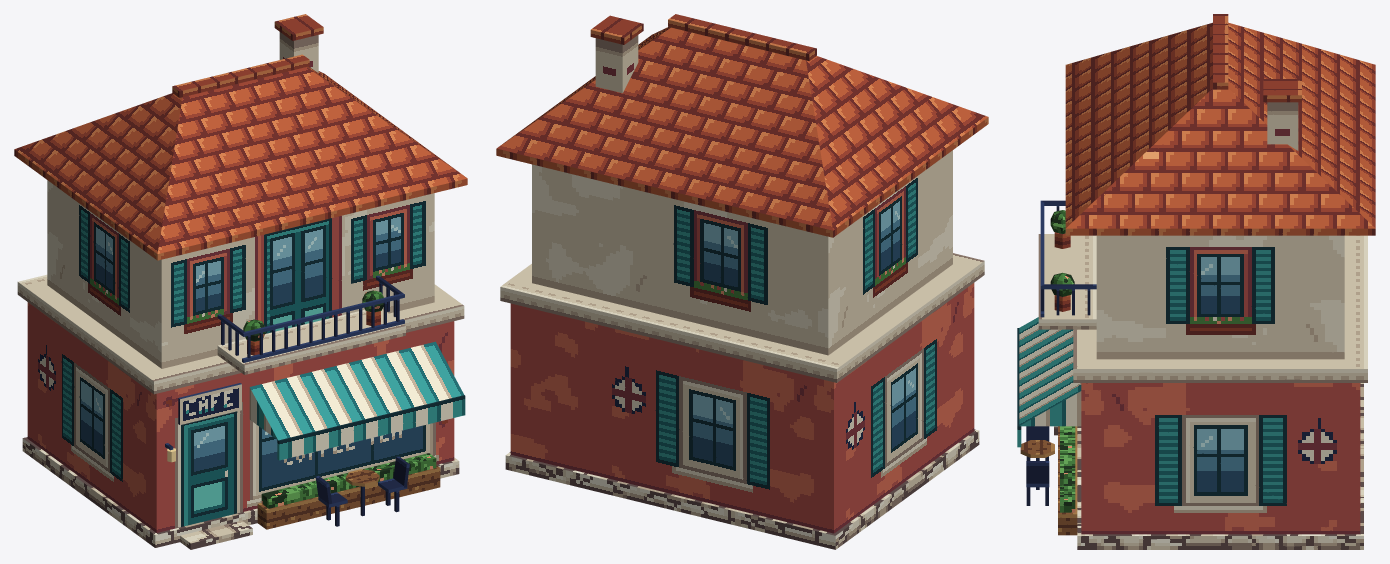
Rendered from cafe-shop.glb.
The picture shows the model from 3 angles, left to right: view 1: azimuth 30°, elevation 25°; view 2: azimuth 150°, elevation 25°; view 3: azimuth 270°, elevation 25°; orthographic projection. The views are drawn at different scales.
Parts seen in each view (by area): view 1: cafe-shop__roof, cafe-shop__ground, cafe-shop__upper, cafe-shop__awning, cafe-shop__cornice, cafe-shop__balcony, cafe-shop__valance, cafe-shop__plinth, cafe-shop__planter, cafe-shop__planter_plants, cafe-shop__ridge, cafe-shop__sign (+5 smaller); view 2: cafe-shop__ground, cafe-shop__roof, cafe-shop__upper, cafe-shop__cornice, cafe-shop__plinth, cafe-shop__ridge, cafe-shop__chimney, cafe-shop__chimney_cap; view 3: cafe-shop__roof, cafe-shop__ground, cafe-shop__upper, cafe-shop__cornice, cafe-shop__awning, cafe-shop__plinth, cafe-shop__balcony, cafe-shop__chimney, cafe-shop__planter_plants, cafe-shop__ridge, cafe-shop__chimney_cap, cafe-shop__planter (+2 smaller).
Part boxes in pixels (<box>): cafe-shop__roof: <box>14,66,467,260</box>; cafe-shop__ground: <box>27,302,454,532</box>; cafe-shop__upper: <box>47,180,434,368</box>; cafe-shop__awning: <box>249,341,463,440</box>; cafe-shop__cornice: <box>17,274,464,394</box>; cafe-shop__balcony: <box>217,309,405,374</box>; cafe-shop__valance: <box>277,395,465,460</box>; cafe-shop__plinth: <box>22,437,459,547</box>; cafe-shop__planter: <box>257,465,440,529</box>; cafe-shop__planter_plants: <box>261,453,436,508</box>; cafe-shop__ridge: <box>172,54,309,97</box>; cafe-shop__sign: <box>178,383,241,424</box>; cafe-shop__ground: <box>510,283,974,533</box>; cafe-shop__roof: <box>496,27,988,237</box>; cafe-shop__upper: <box>532,150,952,355</box>; cafe-shop__cornice: <box>500,253,984,382</box>; cafe-shop__plinth: <box>505,429,979,549</box>; cafe-shop__ridge: <box>668,14,816,60</box>; cafe-shop__chimney: <box>595,35,638,93</box>; cafe-shop__chimney_cap: <box>590,15,643,44</box>; cafe-shop__roof: <box>1065,22,1375,235</box>; cafe-shop__ground: <box>1081,383,1360,534</box>; cafe-shop__upper: <box>1096,235,1344,359</box>; cafe-shop__cornice: <box>1073,235,1367,382</box>; cafe-shop__awning: <box>1019,317,1081,426</box>; cafe-shop__plinth: <box>1077,383,1363,549</box>; cafe-shop__balcony: <box>1038,234,1096,329</box>; cafe-shop__chimney: <box>1267,102,1298,150</box>; cafe-shop__planter_plants: <box>1060,426,1075,512</box>; cafe-shop__ridge: <box>1213,14,1228,89</box>; cafe-shop__chimney_cap: <box>1263,79,1301,102</box>; cafe-shop__planter: <box>1058,426,1077,535</box>.
Size of the model in its own units: 6.15 by 7.5 by 5.69.
18 materials, 18 textured.
